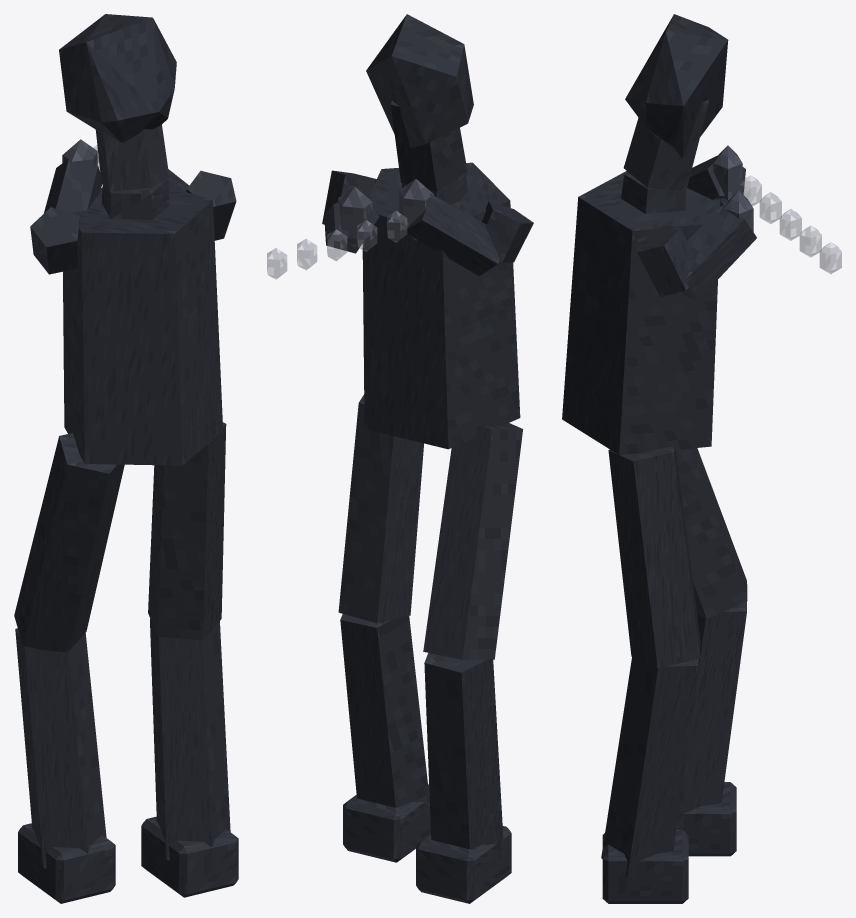
The model's file is f_glassedbody_7.glb.
3 renders of one model, left to right at view 1: azimuth 30°, elevation 25°; view 2: azimuth 150°, elevation 25°; view 3: azimuth 270°, elevation 25°, orthographic.
Visible parts, largest first — view 1: block_angular-torso-1, block_faceted-glass-leg-1 (×2), block_faceted-glass-leg-2 (×2), block_angular-black-glass-head, block_solid-glass-foot (×2), block_angular-glass-arm-1 (×2), block_vitrified-neck-2, block_angular-glass-arm-2, block_vitrified-neck-1, block_glass-hand; view 2: block_angular-torso-1, block_faceted-glass-leg-2 (×2), block_faceted-glass-leg-1 (×2), block_angular-black-glass-head, block_solid-glass-foot (×2), block_angular-glass-arm-2 (×2), block_vitrified-neck-2, block_angular-glass-arm-1 (×2), block_glass-hand (×2), block_vitrified-neck-1; view 3: block_angular-torso-1, block_faceted-glass-leg-1 (×2), block_faceted-glass-leg-2 (×2), block_angular-black-glass-head, block_solid-glass-foot (×2), block_angular-glass-arm-2 (×2), block_vitrified-neck-2, block_angular-glass-arm-1, block_connected-glass-droplet (×4), block_glass-hand (×2), block_vitrified-neck-1.
Boxes of the visible parts, bbox=[...] form: block_angular-torso-1: bbox=[63, 186, 222, 465]; block_faceted-glass-leg-1 (×2): bbox=[15, 619, 230, 868]; block_faceted-glass-leg-2 (×2): bbox=[14, 422, 226, 652]; block_angular-black-glass-head: bbox=[59, 14, 176, 142]; block_solid-glass-foot (×2): bbox=[18, 816, 238, 903]; block_angular-glass-arm-1 (×2): bbox=[30, 170, 236, 274]; block_vitrified-neck-2: bbox=[95, 125, 169, 191]; block_angular-glass-arm-2: bbox=[44, 158, 101, 212]; block_vitrified-neck-1: bbox=[102, 179, 170, 219]; block_glass-hand: bbox=[62, 139, 97, 165]; block_angular-torso-1: bbox=[362, 162, 520, 449]; block_faceted-glass-leg-2 (×2): bbox=[338, 394, 522, 659]; block_faceted-glass-leg-1 (×2): bbox=[340, 614, 504, 858]; block_angular-black-glass-head: bbox=[366, 14, 473, 147]; block_solid-glass-foot (×2): bbox=[343, 784, 511, 903]; block_angular-glass-arm-2 (×2): bbox=[324, 194, 499, 276]; block_vitrified-neck-2: bbox=[390, 100, 467, 191]; block_angular-glass-arm-1 (×2): bbox=[322, 170, 533, 262]; block_glass-hand (×2): bbox=[338, 179, 433, 248]; block_vitrified-neck-1: bbox=[402, 173, 468, 204]; block_angular-torso-1: bbox=[562, 171, 720, 455]; block_faceted-glass-leg-1 (×2): bbox=[601, 601, 746, 877]; block_faceted-glass-leg-2 (×2): bbox=[608, 446, 747, 668]; block_angular-black-glass-head: bbox=[625, 14, 728, 157]; block_solid-glass-foot (×2): bbox=[602, 782, 736, 903]; block_angular-glass-arm-2 (×2): bbox=[681, 155, 756, 300]; block_vitrified-neck-2: bbox=[623, 99, 708, 190]; block_angular-glass-arm-1: bbox=[637, 224, 693, 296]; block_connected-glass-droplet (×4): bbox=[759, 192, 841, 273]; block_glass-hand (×2): bbox=[713, 145, 753, 231]; block_vitrified-neck-1: bbox=[621, 172, 685, 214].
Bounding box in the file's own units: 0.4145 × 1.73 × 0.5174.
Materials: 2 (2 with a texture image).
